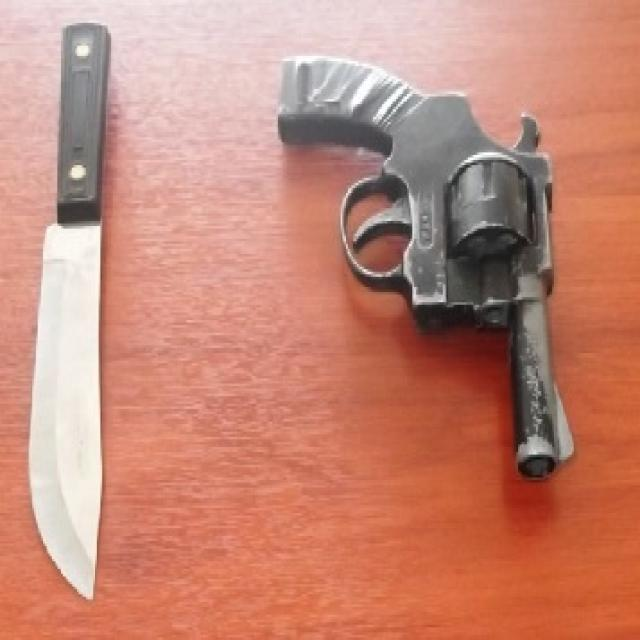knife: (28, 15, 123, 612)
